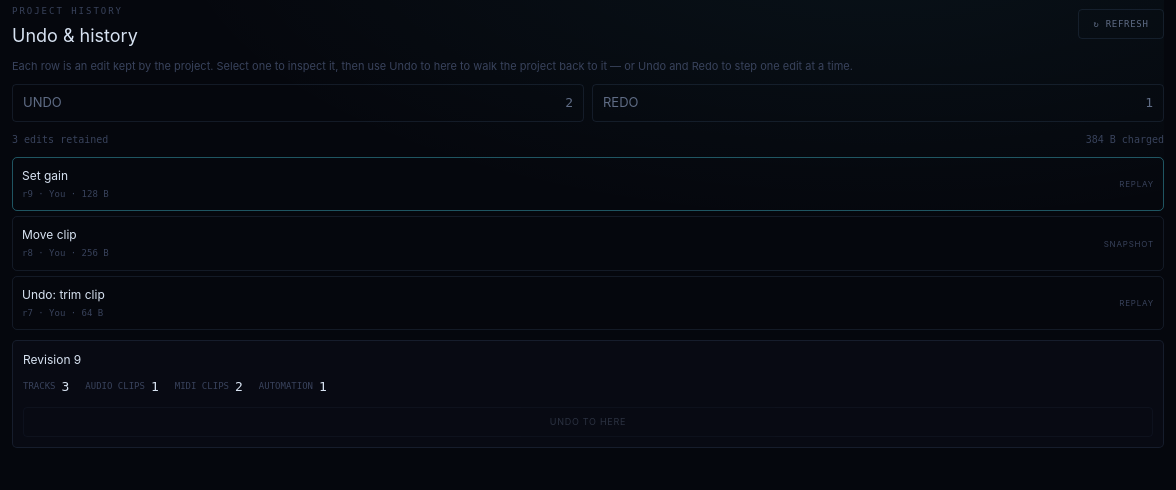
HistoryPanel › shows the reason a walk was refused
Click the option "Move clip r8 · You · 256 B SNAPSHOT".
click(49, 235)  # box [12, 216, 1164, 271]
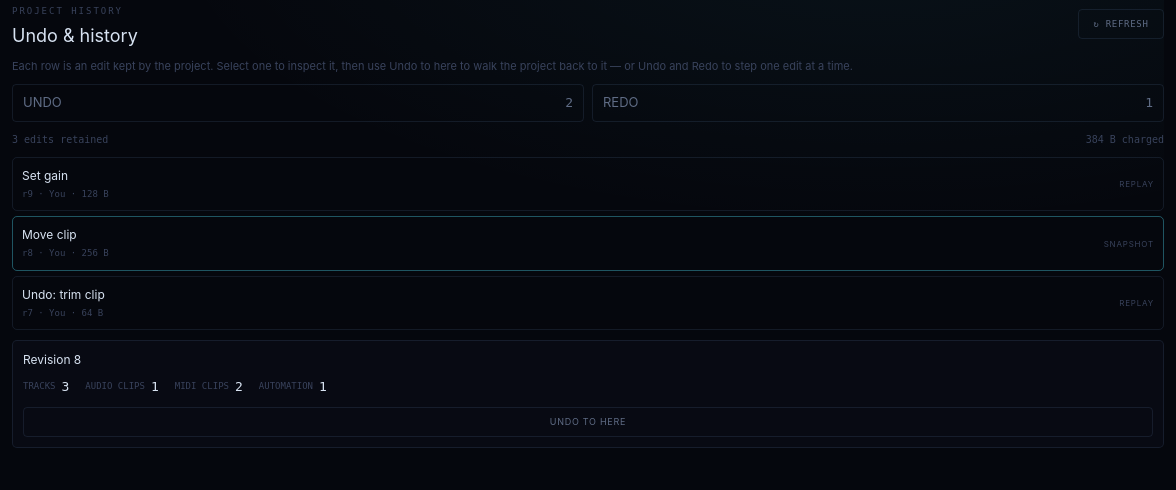
Result: the button "UNDO TO HERE" is enabled
Click the button "UNDO TO HERE".
click(588, 422)  # box [23, 407, 1153, 437]
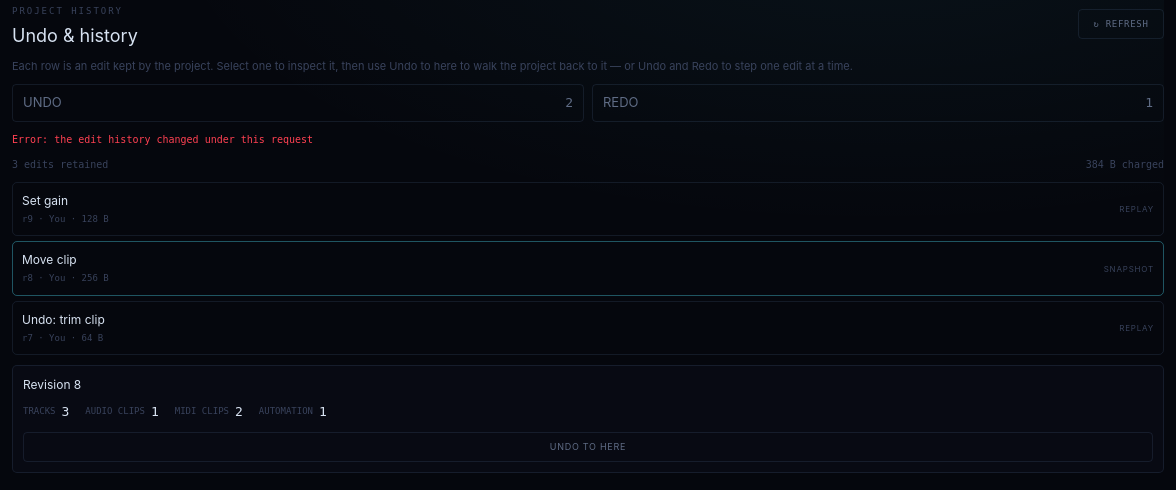
Result: the text "Error: the edit history changed under this request" is shown at [12, 134, 313, 145]
